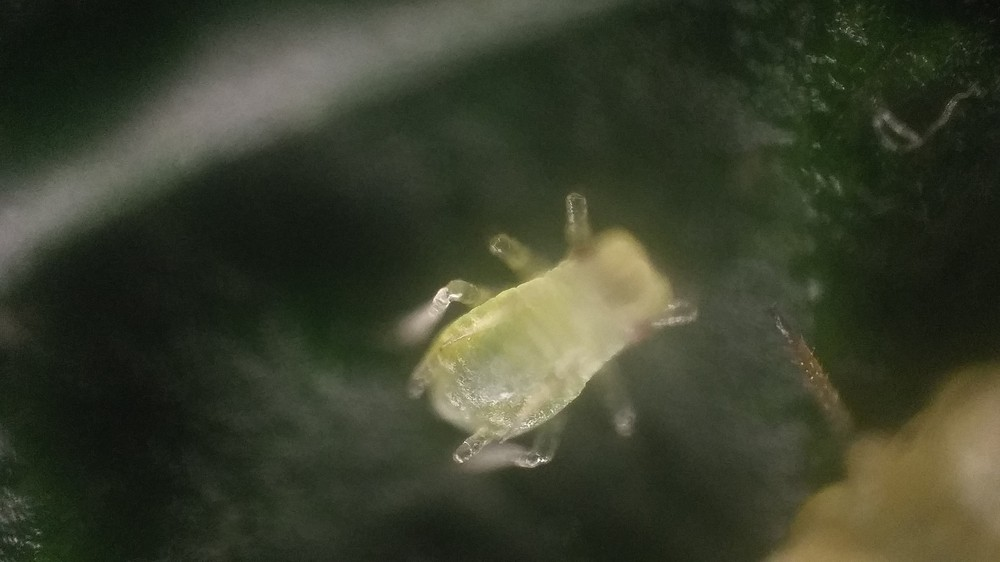Pulgon: (379, 182, 721, 488)
